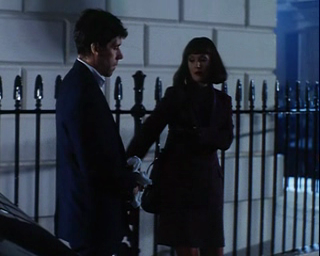face: (106, 37, 123, 73), (187, 54, 209, 81)
mls: (1, 1, 320, 256)
person: (126, 37, 234, 256), (54, 8, 140, 256)
